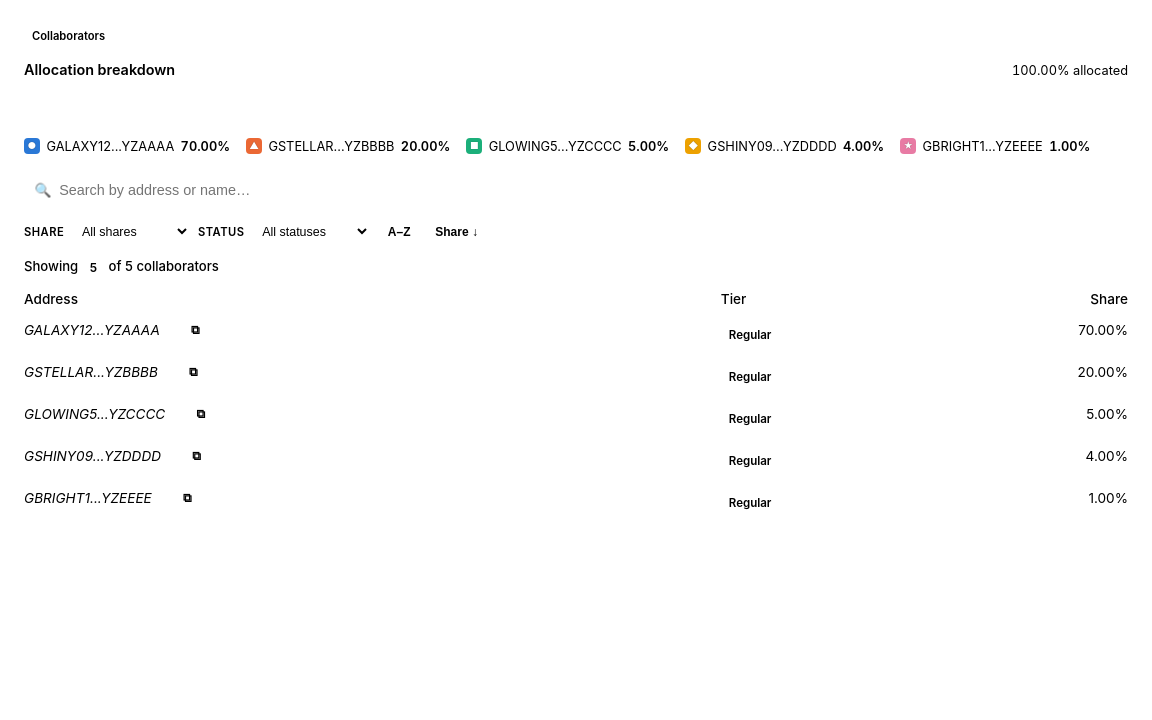
Test: CollaboratorTable › filters by share range < 1%
Select "< 1%" in the dropdown named "Filter by share percentage" at (130, 232), box [70,218,190,245]
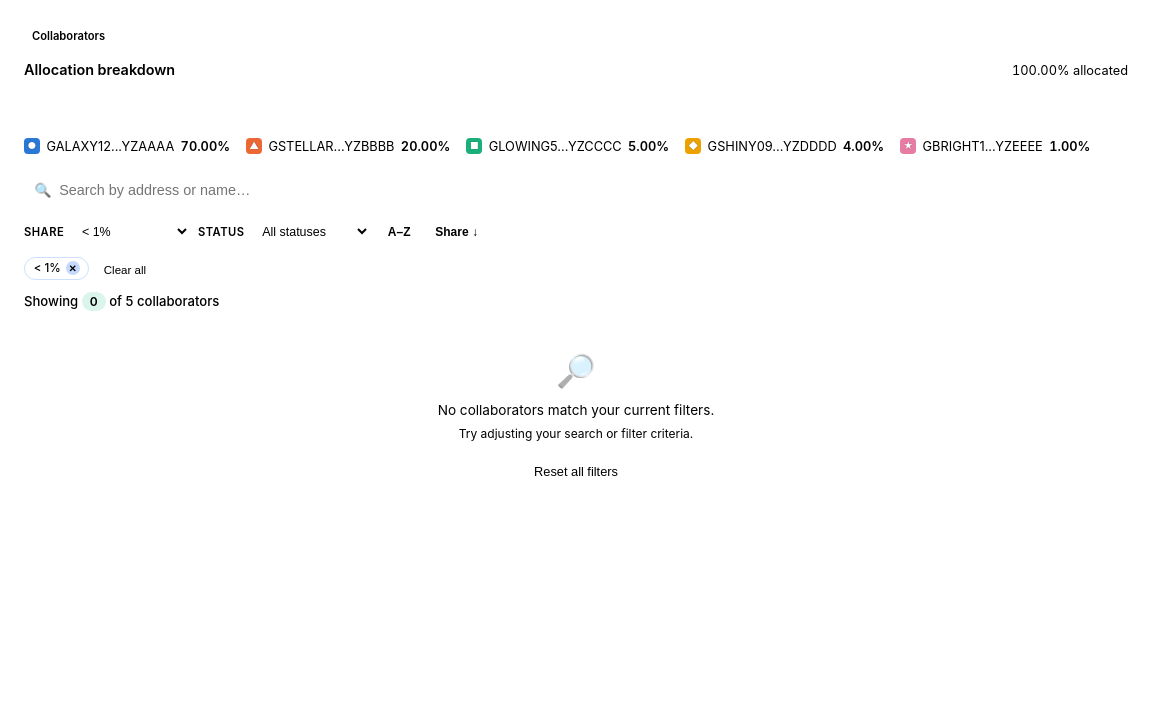
Check: the text "No collaborators match your current filters." is shown, box [438,402,714,418]
